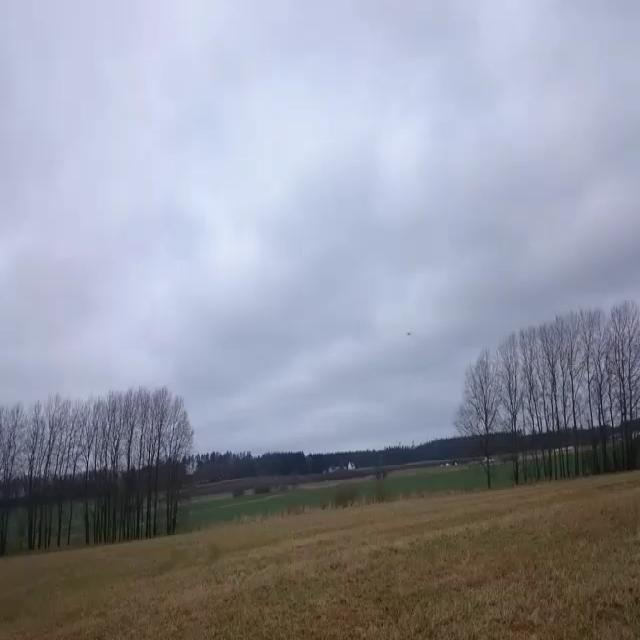Drone: (393, 319, 418, 345)
